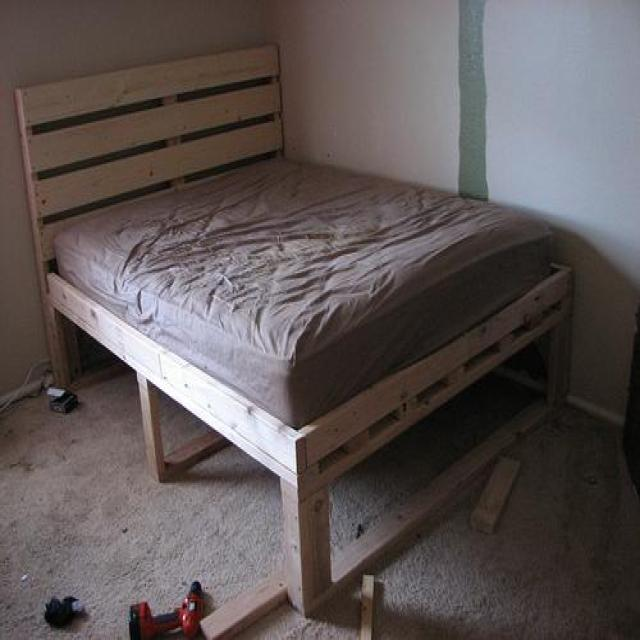bed: (13, 39, 573, 637)
